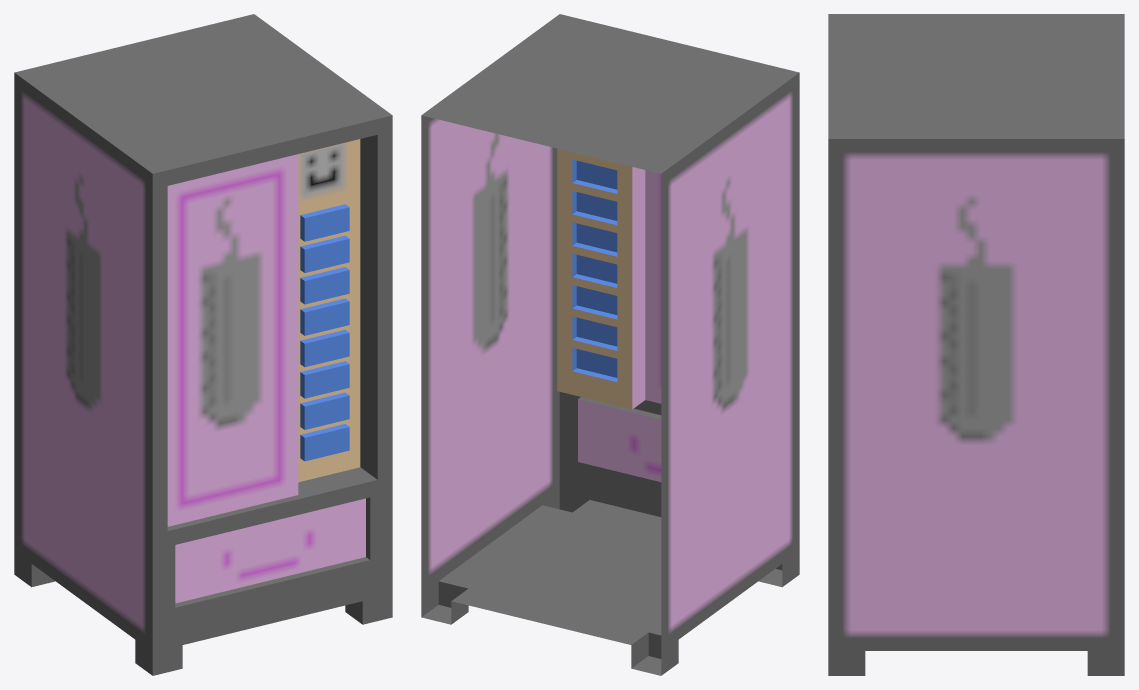
Rendered from VendingMachine01.fbx.
3 views of the same model, side by side, from view 1: azimuth 30°, elevation 25°; view 2: azimuth 150°, elevation 25°; view 3: azimuth 270°, elevation 25° (orthographic). The views are drawn at different scales.
Parts seen in each view (by area): view 1: Matrix; view 2: Matrix; view 3: Matrix.
Boxes of the visible parts, box(x1,y1,x2,y2) form: Matrix: box(14, 14, 392, 675); Matrix: box(421, 14, 799, 675); Matrix: box(828, 14, 1124, 675).
Size of the model in its own units: 32 by 64 by 32.
